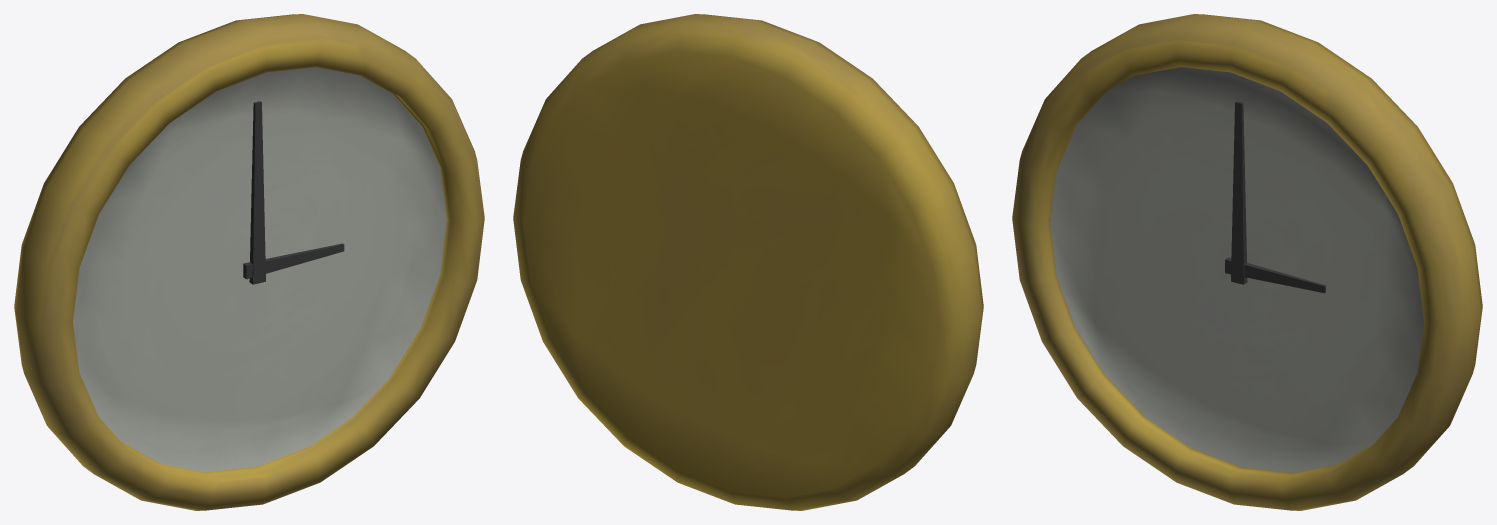
Rendered from clock.fbx.
The picture shows the model from 3 angles, left to right: view 1: azimuth 30°, elevation 25°; view 2: azimuth 150°, elevation 25°; view 3: azimuth 330°, elevation 25°; orthographic projection.
Parts seen in each view (by area): view 1: Clock, Pointer_Large, Pointer_Small; view 2: Clock; view 3: Clock, Pointer_Large, Pointer_Small.
Boxes of the visible parts, <box> form: Clock: <box>14,14,484,510</box>; Pointer_Large: <box>249,101,265,284</box>; Pointer_Small: <box>243,243,344,279</box>; Clock: <box>513,14,983,510</box>; Clock: <box>1012,14,1482,510</box>; Pointer_Large: <box>1231,101,1247,284</box>; Pointer_Small: <box>1225,257,1325,293</box>.
Bounding box in the file's own units: 46.44 × 46.44 × 5.95.
